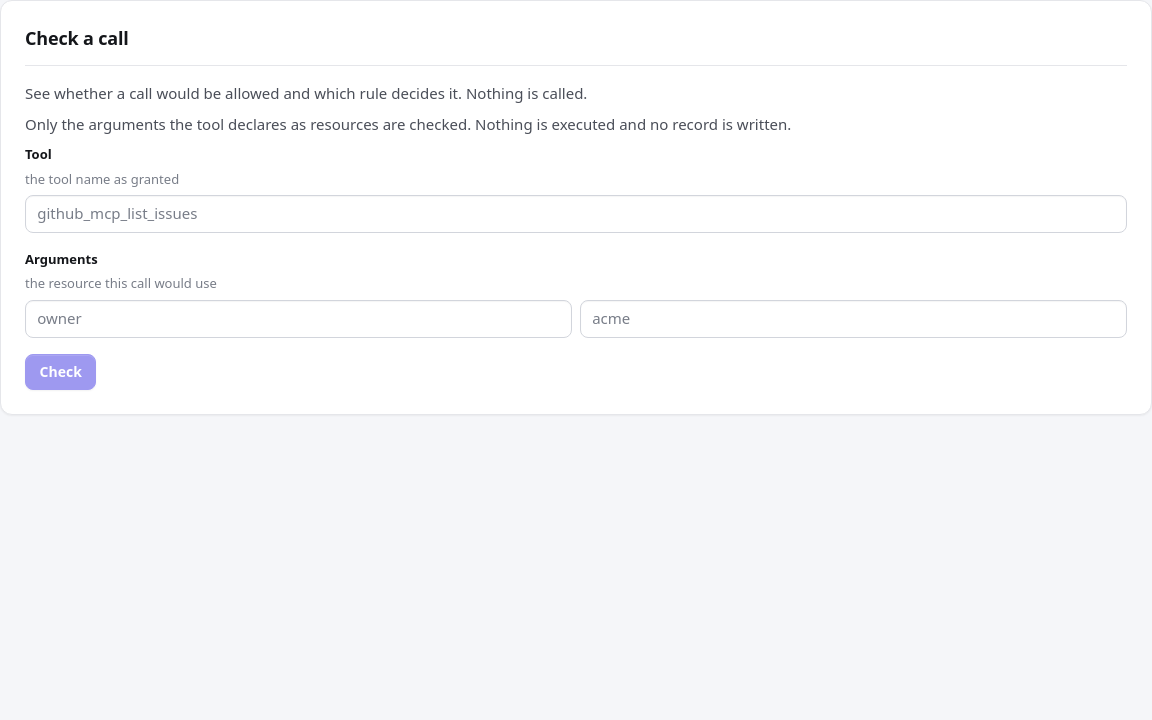
Test case: the answer › still prints the reason when there was nothing to list
In the field labelled "Tool the tool name as granted": (576, 214) [25,195,1127,233], type "x"
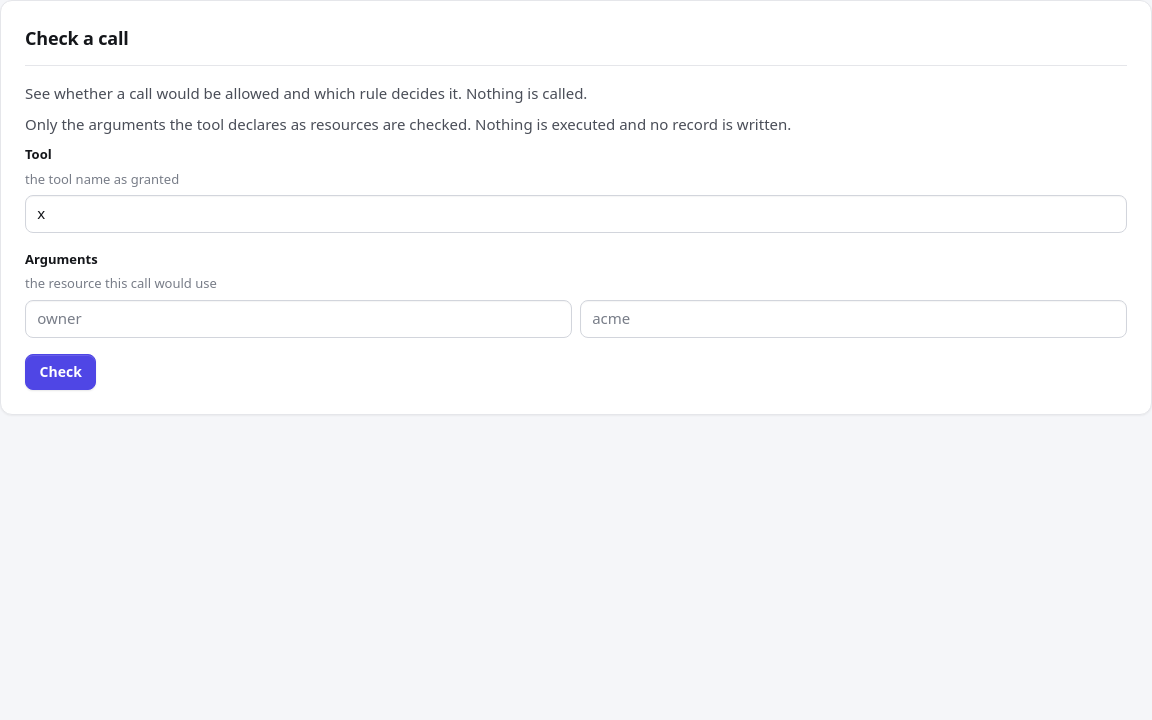
Click the button "Check": (61, 372) [25,354,96,390]
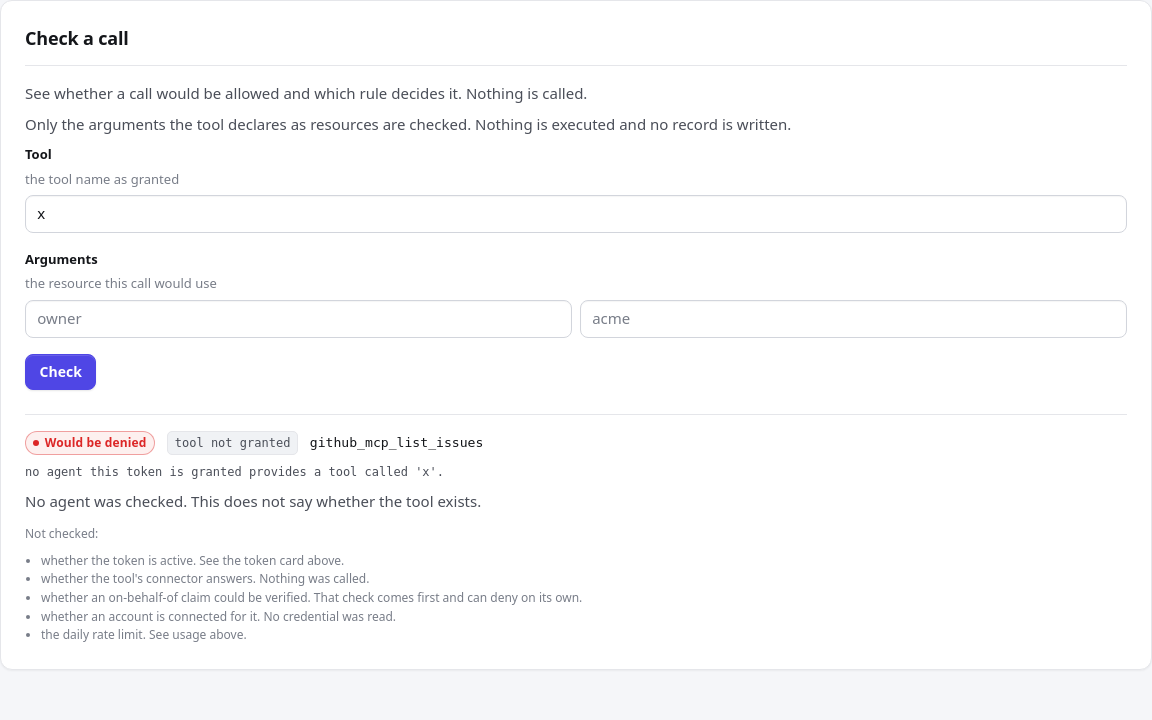
Expected: the text "no agent this token is granted provides a tool called 'x'." is shown, [25,465,444,479]
